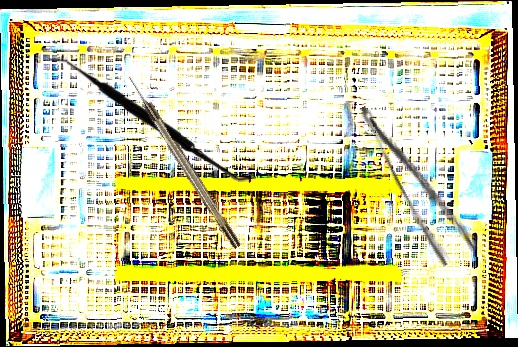Dressing Forceps: (356, 90, 479, 269)
Hook Surgical: (125, 73, 242, 251)
Spatula Surgical: (46, 54, 259, 182)
